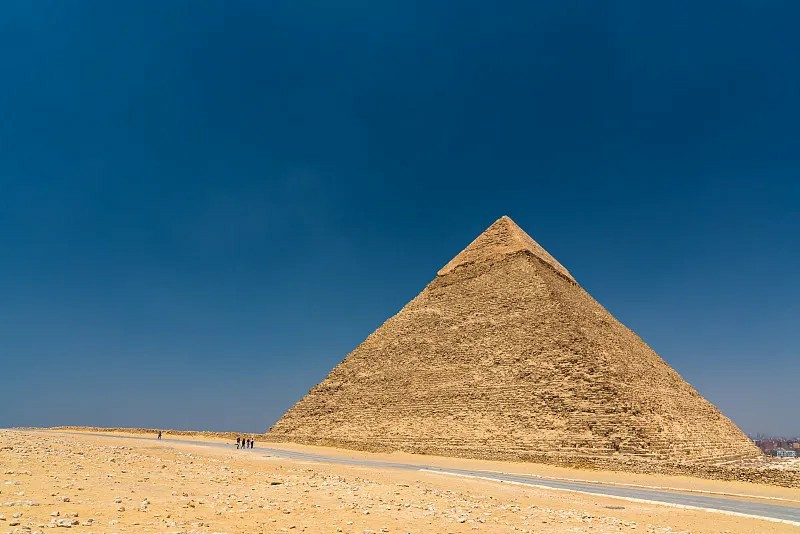Pyramid: (268, 215, 769, 469)
